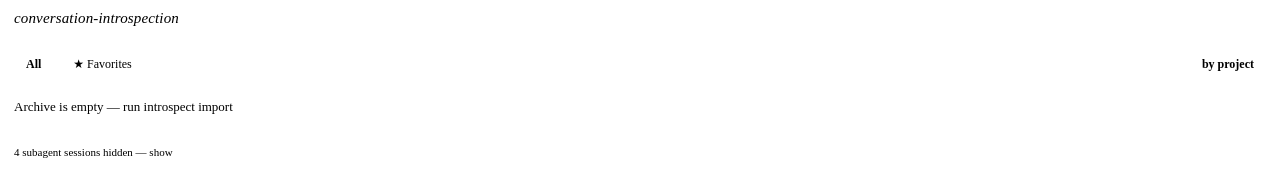
Test case: subagent reveal toggle — tree mode (Task T16) › clicking reveal in tree mode sets ?subagents=1 — the SAME param the flat list uses
Click the button "4 subagent sessions hidden — show".
click(93, 152)  # box [8,138,1272,166]
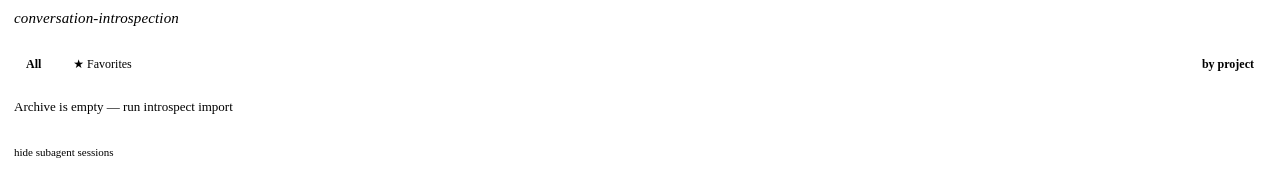
Check: the button "hide subagent sessions" is shown, box [8,138,1272,166]
